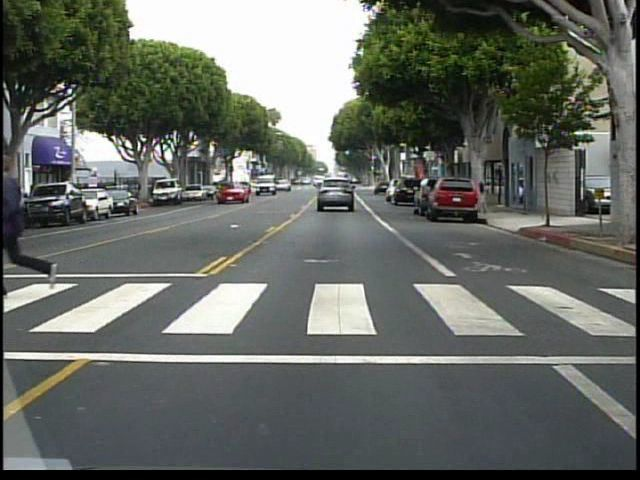person: (5, 149, 80, 294)
